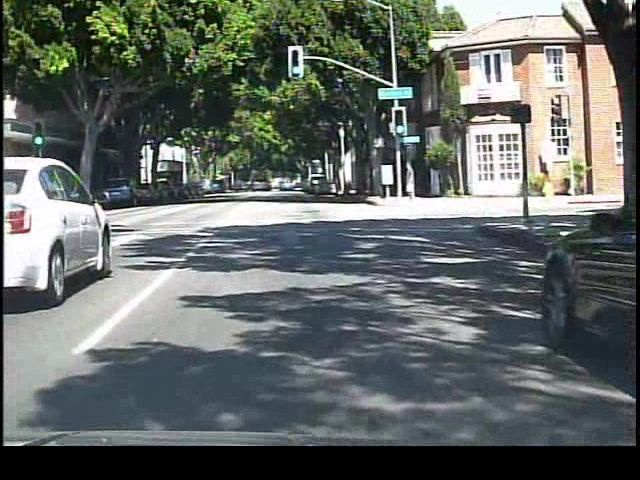person: (404, 157, 423, 207)
